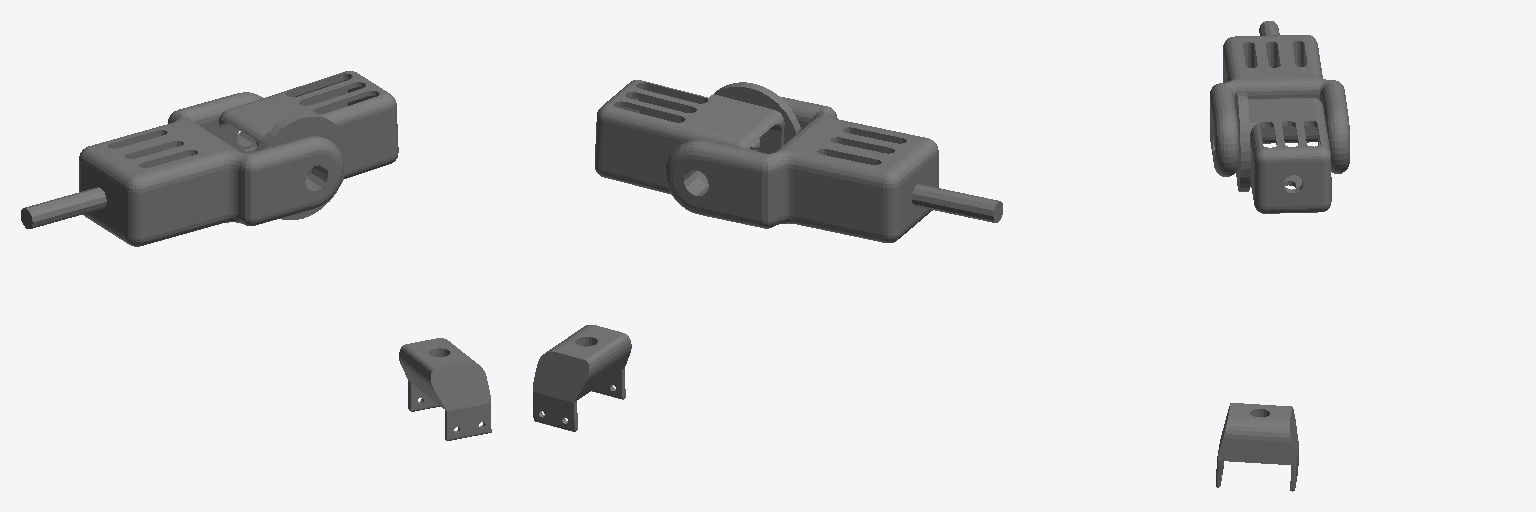
URDF robot description (Knickarmroboter_URDF):
<?xml version="1.0" encoding="utf-8"?>
<!-- This URDF was automatically created by SolidWorks to URDF Exporter! Originally created by [author] ([email redacted]) 
     Commit Version: 1.6.0-4-g7f85cfe  Build Version: 1.6.7995.38578
     For more information, please see http://wiki.ros.org/sw_urdf_exporter -->
<robot
  name="Knickarmroboter_URDF">
  <link
    name="base_link">
    <inertial>
      <origin
        xyz="5.20417042793042E-18 2.16840434497101E-18 0.0366619424385133"
        rpy="0 0 0" />
      <mass
        value="1.98151152753041" />
      <inertia
        ixx="0.00564498748918672"
        ixy="9.3231526840852E-19"
        ixz="-3.93933558135497E-19"
        iyy="0.00564498748918672"
        iyz="2.33058266314758E-19"
        izz="0.00917479759671224" />
    </inertial>
    <visual>
      <origin
        xyz="0 0 0"
        rpy="0 0 0" />
      <geometry>
        <mesh
          filename="package://Knickarmroboter_URDF/meshes/base_link.STL" />
      </geometry>
      <material
        name="">
        <color
          rgba="0.501960784313725 0.501960784313725 0.501960784313725 1" />
      </material>
    </visual>
    <collision>
      <origin
        xyz="0 0 0"
        rpy="0 0 0" />
      <geometry>
        <mesh
          filename="package://Knickarmroboter_URDF/meshes/base_link.STL" />
      </geometry>
    </collision>
  </link>
  <link
    name="l1">
    <inertial>
      <origin
        xyz="0.00342875009837332 2.27896488612911E-05 0.151455208228251"
        rpy="0 0 0" />
      <mass
        value="3.58989007226229" />
      <inertia
        ixx="0.0127414440292874"
        ixy="-6.28399707264981E-05"
        ixz="-1.36727019490895E-05"
        iyy="0.0221912830770801"
        iyz="-7.10942461212701E-08"
        izz="0.02283593921742" />
    </inertial>
    <visual>
      <origin
        xyz="0 0 0"
        rpy="0 0 0" />
      <geometry>
        <mesh
          filename="package://Knickarmroboter_URDF/meshes/l1.STL" />
      </geometry>
      <material
        name="">
        <color
          rgba="0.501960784313725 0.501960784313725 0.501960784313725 1" />
      </material>
    </visual>
    <collision>
      <origin
        xyz="0 0 0"
        rpy="0 0 0" />
      <geometry>
        <mesh
          filename="package://Knickarmroboter_URDF/meshes/l1.STL" />
      </geometry>
    </collision>
  </link>
  <joint
    name="j1"
    type="revolute">
    <origin
      xyz="0 0 0"
      rpy="0 0 0" />
    <parent
      link="base_link" />
    <child
      link="l1" />
    <axis
      xyz="0 0 1" />
    <limit
      lower="0"
      upper="0"
      effort="0"
      velocity="0" />
  </joint>
  <link
    name="l2">
    <inertial>
      <origin
        xyz="0.116816111382844 0.00458341857140408 0.315109916432693"
        rpy="0 0 0" />
      <mass
        value="2.15458853713248" />
      <inertia
        ixx="0.0290442398985364"
        ixy="3.96664810255086E-06"
        ixz="-0.000292699380136223"
        iyy="0.0277340010742162"
        iyz="-0.000419192292398604"
        izz="0.00307125334814805" />
    </inertial>
    <visual>
      <origin
        xyz="0 0 0"
        rpy="0 0 0" />
      <geometry>
        <mesh
          filename="package://Knickarmroboter_URDF/meshes/l2.STL" />
      </geometry>
      <material
        name="">
        <color
          rgba="0.501960784313725 0.501960784313725 0.501960784313725 1" />
      </material>
    </visual>
    <collision>
      <origin
        xyz="0 0 0"
        rpy="0 0 0" />
      <geometry>
        <mesh
          filename="package://Knickarmroboter_URDF/meshes/l2.STL" />
      </geometry>
    </collision>
  </link>
  <joint
    name="j2"
    type="revolute">
    <origin
      xyz="0 0 0"
      rpy="0 0 0" />
    <parent
      link="l1" />
    <child
      link="l2" />
    <axis
      xyz="-0.0066494 0.99998 0" />
    <limit
      lower="0"
      upper="0"
      effort="0"
      velocity="0" />
  </joint>
  <link
    name="l3">
    <inertial>
      <origin
        xyz="0.167157110696443 0.00664214971719109 0.502224589948763"
        rpy="0 0 0" />
      <mass
        value="0.575994505699524" />
      <inertia
        ixx="0.000742339722231998"
        ixy="-5.26567366235863E-05"
        ixz="3.11047855689663E-05"
        iyy="0.00259688490148011"
        iyz="8.36343649494274E-07"
        izz="0.0027338814944405" />
    </inertial>
    <visual>
      <origin
        xyz="0 0 0"
        rpy="0 0 0" />
      <geometry>
        <mesh
          filename="package://Knickarmroboter_URDF/meshes/l3.STL" />
      </geometry>
      <material
        name="">
        <color
          rgba="0.501960784313725 0.501960784313725 0.501960784313725 1" />
      </material>
    </visual>
    <collision>
      <origin
        xyz="0 0 0"
        rpy="0 0 0" />
      <geometry>
        <mesh
          filename="package://Knickarmroboter_URDF/meshes/l3.STL" />
      </geometry>
    </collision>
  </link>
  <joint
    name="j3"
    type="revolute">
    <origin
      xyz="0 0 0"
      rpy="0 0 0" />
    <parent
      link="l2" />
    <child
      link="l3" />
    <axis
      xyz="-0.0066494 0.99998 0" />
    <limit
      lower="0"
      upper="0"
      effort="0"
      velocity="0" />
  </joint>
  <link
    name="l4">
    <inertial>
      <origin
        xyz="0.393056001978031 0.00774368571044722 0.498847058830407"
        rpy="0 0 0" />
      <mass
        value="1.0036372704856" />
      <inertia
        ixx="0.00172341040408688"
        ixy="8.39263450547564E-07"
        ixz="5.30763511552947E-05"
        iyy="0.00434352436051975"
        iyz="3.14985535414815E-05"
        izz="0.00527114996029661" />
    </inertial>
    <visual>
      <origin
        xyz="0 0 0"
        rpy="0 0 0" />
      <geometry>
        <mesh
          filename="package://Knickarmroboter_URDF/meshes/l4.STL" />
      </geometry>
      <material
        name="">
        <color
          rgba="0.501960784313725 0.501960784313725 0.501960784313725 1" />
      </material>
    </visual>
    <collision>
      <origin
        xyz="0 0 0"
        rpy="0 0 0" />
      <geometry>
        <mesh
          filename="package://Knickarmroboter_URDF/meshes/l4.STL" />
      </geometry>
    </collision>
  </link>
  <joint
    name="j4"
    type="revolute">
    <origin
      xyz="0 0 0"
      rpy="0 0 0" />
    <parent
      link="l3" />
    <child
      link="l4" />
    <axis
      xyz="-0.99986 -0.0066486 0.01561" />
    <limit
      lower="0"
      upper="0"
      effort="0"
      velocity="0" />
  </joint>
  <link
    name="l5">
    <inertial>
      <origin
        xyz="0.49845844167894 0.00058921978345357 0.460442294674364"
        rpy="0 0 0" />
      <mass
        value="0.283355917359441" />
      <inertia
        ixx="0.000971920993625608"
        ixy="2.52561899965769E-06"
        ixz="-7.72658676268279E-06"
        iyy="0.000881887915611142"
        iyz="0.000104935273774506"
        izz="0.000454277898377059" />
    </inertial>
    <visual>
      <origin
        xyz="0 0 0"
        rpy="0 0 0" />
      <geometry>
        <mesh
          filename="package://Knickarmroboter_URDF/meshes/l5.STL" />
      </geometry>
      <material
        name="">
        <color
          rgba="0.501960784313725 0.501960784313725 0.501960784313725 1" />
      </material>
    </visual>
    <collision>
      <origin
        xyz="0 0 0"
        rpy="0 0 0" />
      <geometry>
        <mesh
          filename="package://Knickarmroboter_URDF/meshes/l5.STL" />
      </geometry>
    </collision>
  </link>
  <joint
    name="j5"
    type="revolute">
    <origin
      xyz="0 0 0"
      rpy="0 0 0" />
    <parent
      link="l4" />
    <child
      link="l5" />
    <axis
      xyz="-0.007173 0.9994 -0.033783" />
    <limit
      lower="0"
      upper="0"
      effort="0"
      velocity="0" />
  </joint>
  <link
    name="l6">
    <inertial>
      <origin
        xyz="0.502131070069706 0.00823162750610676 0.358091601980651"
        rpy="0 0 0" />
      <mass
        value="0.151417252536961" />
      <inertia
        ixx="0.000109796391461088"
        ixy="-2.94419371801066E-06"
        ixz="7.29633093183952E-06"
        iyy="6.47550498106707E-05"
        iyz="1.14162970646975E-06"
        izz="0.000112348472245568" />
    </inertial>
    <visual>
      <origin
        xyz="0 0 0"
        rpy="0 0 0" />
      <geometry>
        <mesh
          filename="package://Knickarmroboter_URDF/meshes/l6.STL" />
      </geometry>
      <material
        name="">
        <color
          rgba="0.501960784313725 0.501960784313725 0.501960784313725 1" />
      </material>
    </visual>
    <collision>
      <origin
        xyz="0 0 0"
        rpy="0 0 0" />
      <geometry>
        <mesh
          filename="package://Knickarmroboter_URDF/meshes/l6.STL" />
      </geometry>
    </collision>
  </link>
  <joint
    name="j6"
    type="revolute">
    <origin
      xyz="0 0 0"
      rpy="0 0 0" />
    <parent
      link="l5" />
    <child
      link="l6" />
    <axis
      xyz="-0.014351 -0.033995 -0.99932" />
    <limit
      lower="0"
      upper="0"
      effort="0"
      velocity="0" />
  </joint>
</robot>

--- Facts derived from the render (not from the file) ---
3 views of the same robot in one strip: view 1: azimuth 30°, elevation 25°; view 2: azimuth 150°, elevation 25°; view 3: azimuth 270°, elevation 25° (orthographic).
Robot: Knickarmroboter_URDF — 7 links, 6 joints (6 revolute); root link base_link; default pose: all joints at 0.
Visible links, largest first — view 1: l4, l5, l6; view 2: l4, l5, l6; view 3: l4, l5, l6.
Link boxes in pixels (bbox=[...]): l4: bbox=[21, 92, 343, 246]; l5: bbox=[219, 71, 398, 219]; l6: bbox=[399, 338, 491, 440]; l4: bbox=[665, 96, 1002, 242]; l5: bbox=[595, 80, 800, 194]; l6: bbox=[533, 325, 631, 431]; l4: bbox=[1210, 21, 1349, 176]; l5: bbox=[1235, 92, 1331, 213]; l6: bbox=[1216, 403, 1298, 491].
Size in the robot's own frame: 0.4588 by 0.1412 by 0.3494 metres.
Meshes: 7 distinct files referenced, 3 mesh visuals loaded (3 binary STL); not drawn: 4 (reference not matched to a file when rendering).